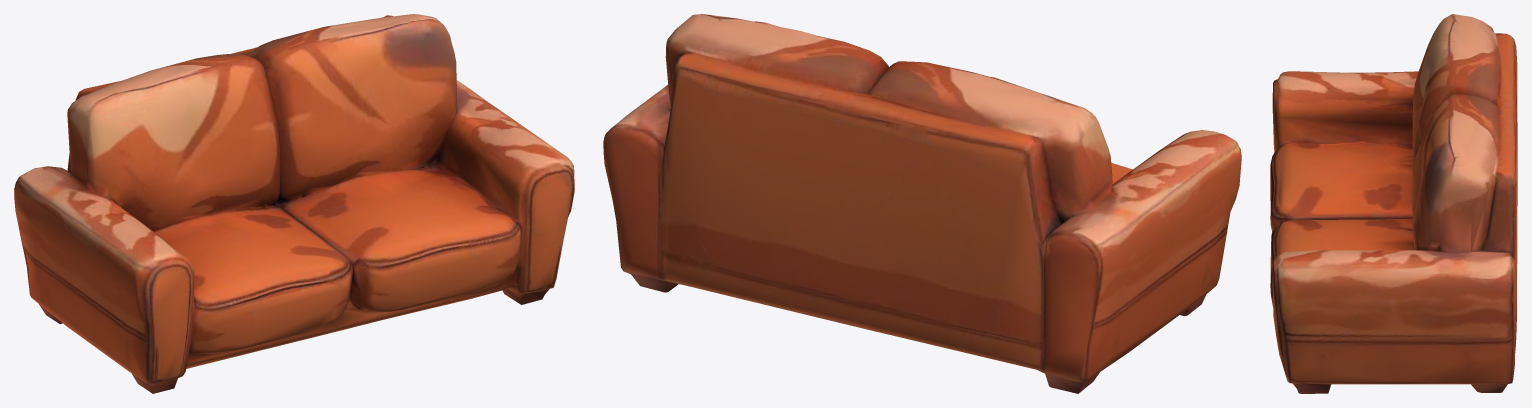
The model's file is sofa.glb.
3 renders of one model, left to right at view 1: azimuth 30°, elevation 25°; view 2: azimuth 150°, elevation 25°; view 3: azimuth 270°, elevation 25°, orthographic. The views are drawn at different scales.
Bounding box in the file's own units: 2 × 1.01 × 1.03.
Materials: 1 (1 with a texture image).
